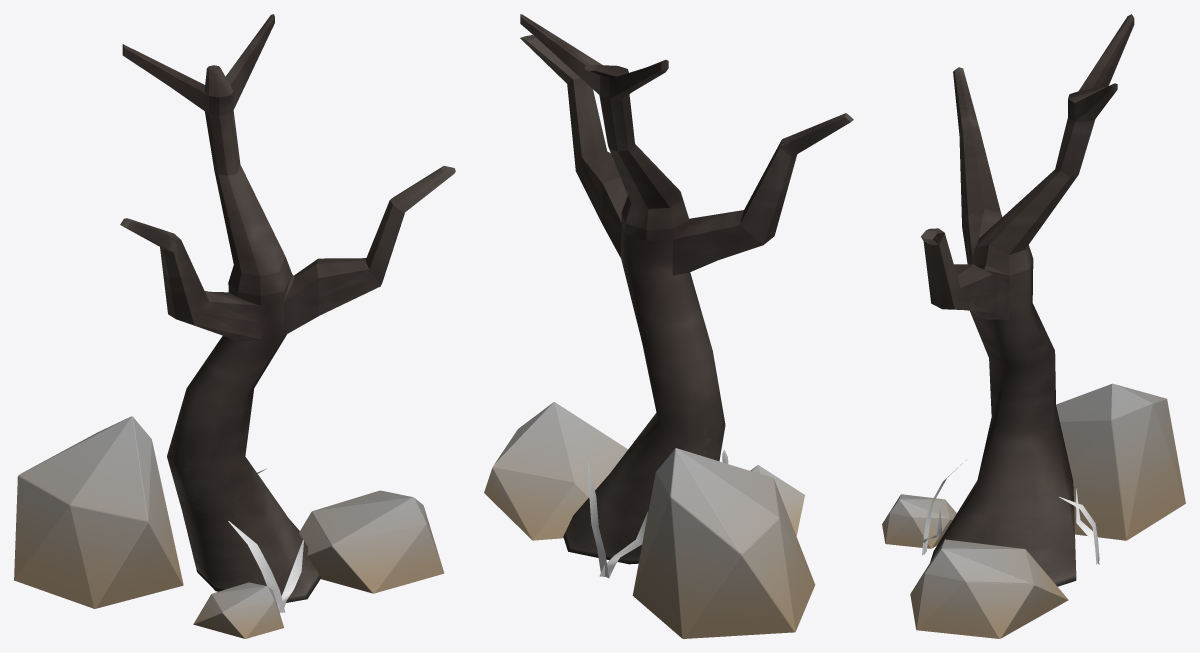
Rendered from Snow dead tree collection 1.fbx.
3 renders of one model, left to right at view 1: azimuth 30°, elevation 25°; view 2: azimuth 150°, elevation 25°; view 3: azimuth 270°, elevation 25°, orthographic. The views are drawn at different scales.
Parts seen in each view (by area): view 1: Dead tree001; view 2: Dead tree001; view 3: Dead tree001.
Boxes of the visible parts, box(x1,y1,x2,y2) form: Dead tree001: box(14, 14, 455, 638); Dead tree001: box(484, 14, 853, 638); Dead tree001: box(882, 14, 1185, 638).
Size of the model in its own units: 21.76 by 30.45 by 16.3.
